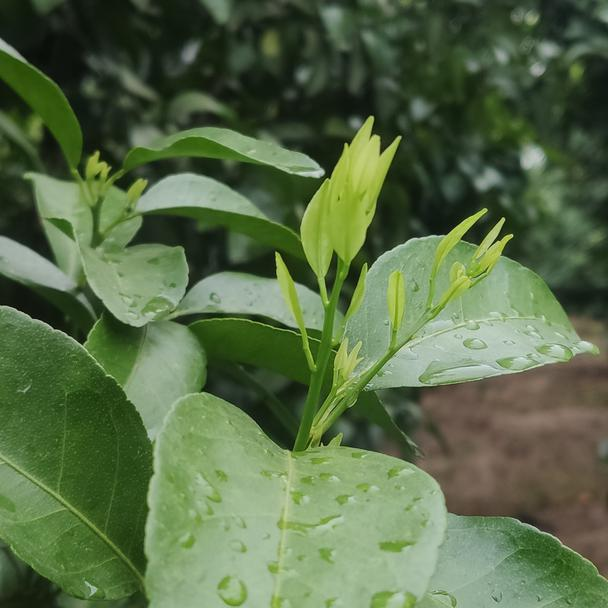shoot: (271, 133, 406, 342), (393, 221, 513, 343), (320, 341, 365, 408)
